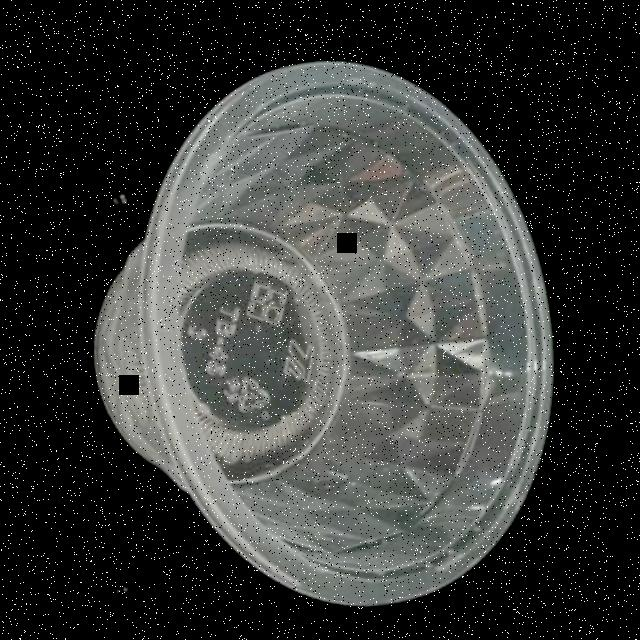plastic_box: (52, 28, 592, 640)
